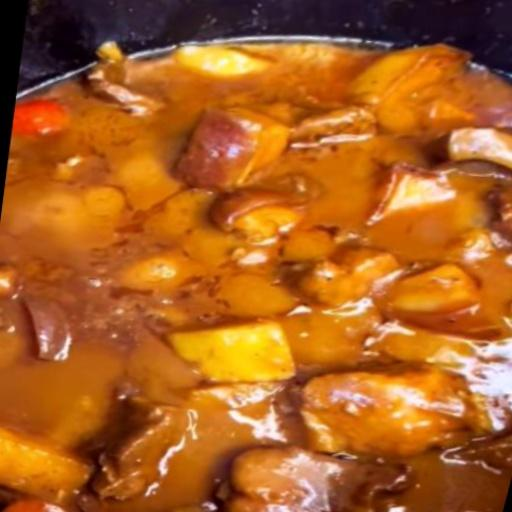pork caldereta: (0, 39, 511, 510)
